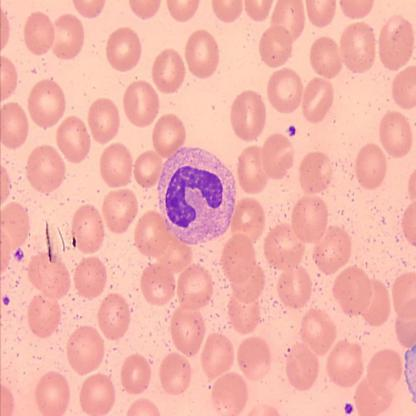Band Neutrophil: (155, 143, 238, 246)
